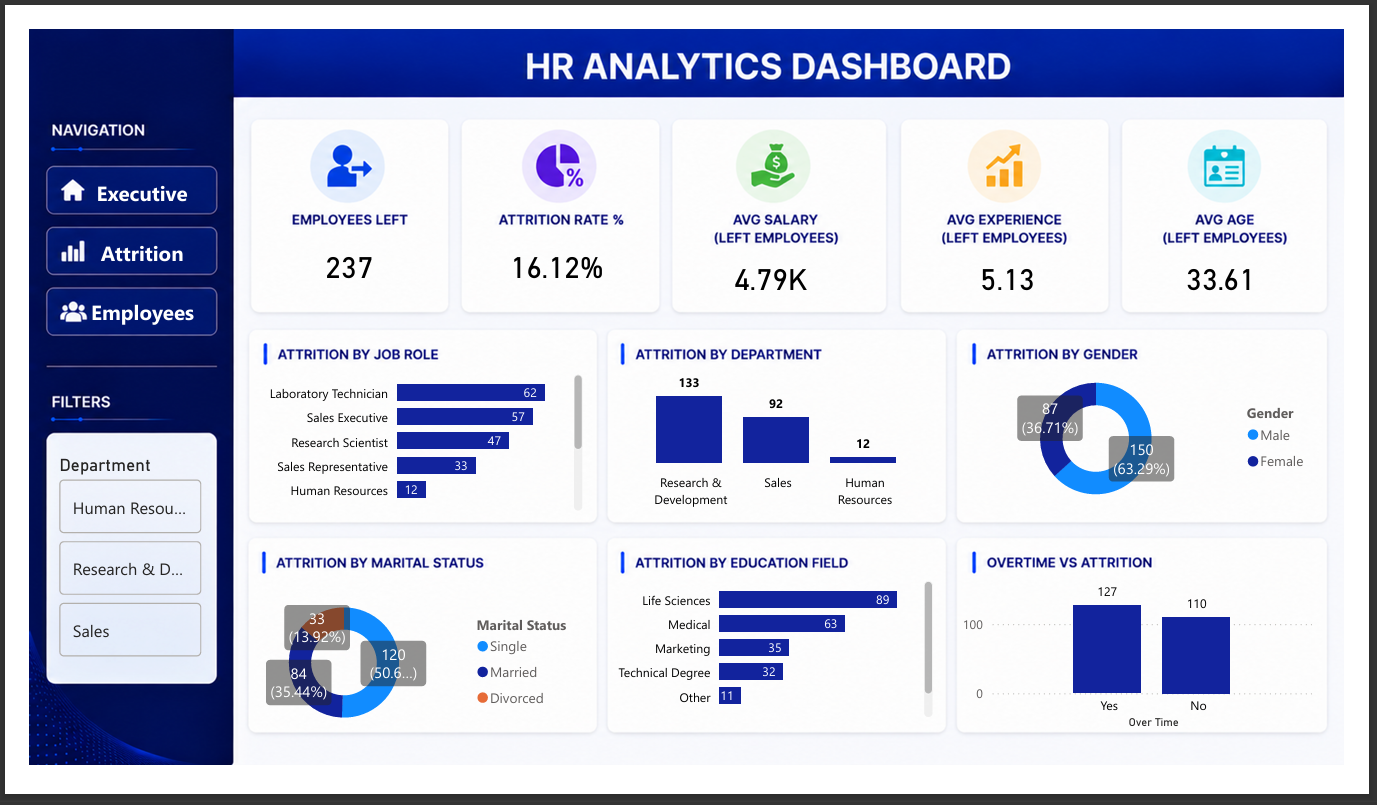

Layout of this report page (visuals, bound fields, positions):
{"tool":"powerbi","page":{"name":"Attrition Analysis","canvas":[1280,720],"ordinal":1},"visuals":[{"type":"card","fields":{"Values":["Table.Employees Left"]},"box":[243.4,204.5,135.2,50.7],"z":0},{"type":"card","fields":{"Values":["Table.Attrition Rate %"]},"box":[446.2,204.5,135.2,50.7],"z":1000},{"type":"card","fields":{"Values":["Table.Avg Salary (Left Employees)"]},"box":[654.1,216.3,135.2,50.7],"z":2000},{"type":"card","fields":{"Values":["Table.Avg Exp (LEFT Employees)"]},"box":[883.9,216.3,135.2,50.7],"z":3000},{"type":"card","fields":{"Values":["Table.Avg Age (Left Employees)"]},"box":[1091.8,216.3,135.2,50.7],"z":4000},{"type":"clusteredBarChart","fields":{"Category":["Employees.Job Role"],"Y":["Table.Employees Left"]},"box":[214.6,322.8,327.9,150.4],"z":5000},{"type":"columnChart","fields":{"Category":["Employees.Department"],"Y":["Table.Employees Left"]},"box":[557.8,322.8,327.9,150.4],"z":6000},{"type":"donutChart","fields":{"Category":["Employees.Gender"],"Y":["Table.Employees Left"]},"box":[885.6,322.8,370.1,150.4],"z":7000},{"type":"donutChart","fields":{"Category":["Employees.Marital Status"],"Y":["Table.Employees Left"]},"box":[172.4,540.8,370.1,150.4],"z":8000},{"type":"barChart","fields":{"Category":["Employees.Education Field"],"Y":["Table.Employees Left"]},"box":[556.1,523.9,327.9,150.4],"z":9000},{"type":"clusteredColumnChart","fields":{"Category":["Employees.Over Time"],"Y":["Table.Employees Left"]},"box":[902.5,523.9,353.2,160.6],"z":10000},{"type":"advancedSlicerVisual","fields":{"Values":["Employees.Department"]},"box":[23.7,414.1,148.7,202.8],"z":11000},{"type":"actionButton","title":"Executive","box":[39.5,251.6,141.6,45.8],"z":12000},{"type":"actionButton","title":"Executive","box":[39.5,135.3,140.5,45.3],"z":12001},{"type":"actionButton","title":"Executive","box":[39.5,194.2,140.5,44.7],"z":12002}]}

Visuals, with their boxes on the page's 1280x720 design canvas (x1, y1, x2, y2). These are canvas units, not pixel positions in the 1377x805 screenshot, which may show the page scaled, cropped or inside an application window:
card - Table.Employees Left: Rect(243, 204, 379, 255)
card - Table.Attrition Rate %: Rect(446, 204, 581, 255)
card - Table.Avg Salary (Left Employees): Rect(654, 216, 789, 267)
card - Table.Avg Exp (LEFT Employees): Rect(884, 216, 1019, 267)
card - Table.Avg Age (Left Employees): Rect(1092, 216, 1227, 267)
clusteredBarChart - Employees.Job Role x Table.Employees Left: Rect(215, 323, 542, 473)
columnChart - Employees.Department x Table.Employees Left: Rect(558, 323, 886, 473)
donutChart - Employees.Gender x Table.Employees Left: Rect(886, 323, 1256, 473)
donutChart - Employees.Marital Status x Table.Employees Left: Rect(172, 541, 542, 691)
barChart - Employees.Education Field x Table.Employees Left: Rect(556, 524, 884, 674)
clusteredColumnChart - Employees.Over Time x Table.Employees Left: Rect(902, 524, 1256, 684)
advancedSlicerVisual - Employees.Department: Rect(24, 414, 172, 617)
"Executive" actionButton: Rect(40, 252, 181, 297)
"Executive" actionButton: Rect(40, 135, 180, 181)
"Executive" actionButton: Rect(40, 194, 180, 239)
